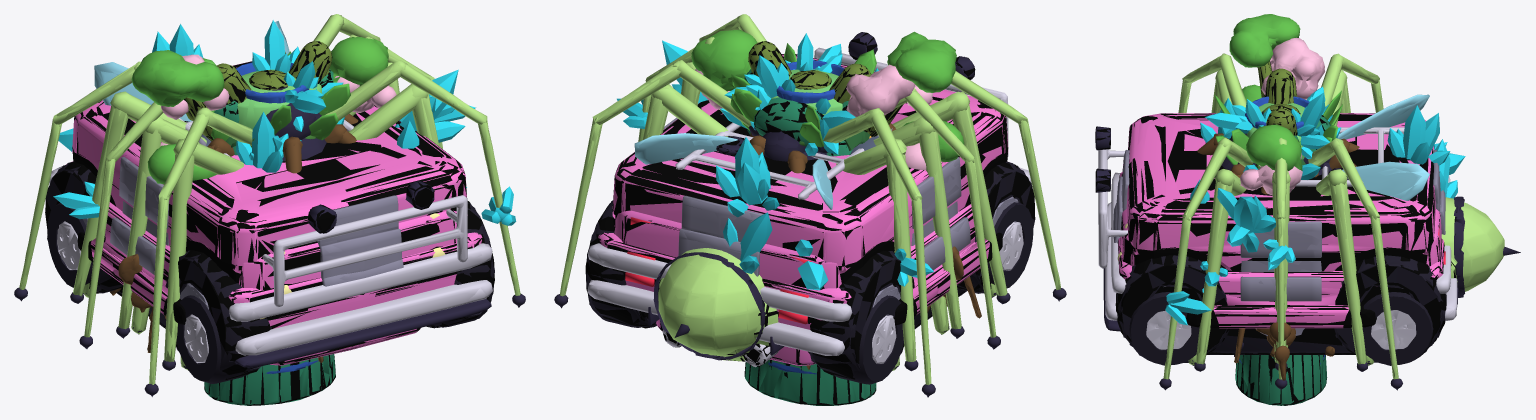
Rendered from chimera.glb.
3 views of the same model, side by side, from view 1: azimuth 30°, elevation 25°; view 2: azimuth 150°, elevation 25°; view 3: azimuth 270°, elevation 25° (orthographic). The views are drawn at different scales.
Parts seen in each view (by area): view 1: ch_legs_car_1_hull_ink, ch_legs_car_1_hull, ch_legs_car_1_hull_far, ch_legs_car_0_bumpers, ch_legs_car_1_bumpers, ch_legs_car_1_bullbar, ch_legs_car_2_hull, ch_legs_car_1_mut_crystal_18_shards, ch_legs_car_2_splitter, ch_legs_car_2_hull_ink, ch_body_sapling_0_leaves2, ch_legs_car_1_bullbar_far (+84 smaller); view 2: ch_legs_car_1_hull_ink, ch_legs_car_1_hull, ch_body_mite_2_body, ch_legs_car_1_hull_far, ch_body_mite_2_body_twin, ch_legs_car_0_hull, ch_legs_car_1_bumpers, ch_legs_car_0_bumpers, ch_legs_car_1_wheelLB_tire_ink, ch_legs_car_2_hull_ink, ch_legs_car_2_hull, ch_body_car_1_mut_crystal_18_shards (+91 smaller); view 3: ch_legs_car_1_hull_ink, ch_legs_car_1_hull, ch_legs_car_1_hull_far, ch_legs_car_1_mut_crystal_18_shards, ch_legs_car_2_hull, ch_legs_car_2_hull_ink, ch_legs_car_1_wheelRF_tire_ink, ch_body_mite_2_body, ch_legs_car_2_wheelRB_tire_far, ch_body_sapling_0_leaves2, ch_legs_mite_0_legR0_bone1, ch_legs_car_1_wheelRB_tire (+72 smaller).
Part boxes in pixels (<box>): ch_legs_car_1_hull_ink: <box>72,61,466,283</box>; ch_legs_car_1_hull: <box>72,63,466,270</box>; ch_legs_car_1_hull_far: <box>72,63,467,273</box>; ch_legs_car_0_bumpers: <box>235,280,492,355</box>; ch_legs_car_1_bumpers: <box>49,167,492,321</box>; ch_legs_car_1_bullbar: <box>262,195,467,307</box>; ch_legs_car_2_hull: <box>66,161,481,328</box>; ch_legs_car_1_mut_crystal_18_shards: <box>169,24,465,172</box>; ch_legs_car_2_splitter: <box>235,299,490,367</box>; ch_legs_car_2_hull_ink: <box>77,207,482,329</box>; ch_body_sapling_0_leaves2: <box>131,50,224,106</box>; ch_legs_car_1_bullbar_far: <box>263,195,467,307</box>; ch_legs_car_1_hull_ink: <box>612,54,1008,283</box>; ch_legs_car_1_hull: <box>612,54,1008,270</box>; ch_body_mite_2_body: <box>658,248,763,354</box>; ch_legs_car_1_hull_far: <box>612,54,1008,273</box>; ch_body_mite_2_body_twin: <box>658,248,764,354</box>; ch_legs_car_0_hull: <box>614,210,841,290</box>; ch_legs_car_1_bumpers: <box>588,167,1031,321</box>; ch_legs_car_0_bumpers: <box>587,280,844,355</box>; ch_legs_car_1_wheelLB_tire_ink: <box>810,250,914,379</box>; ch_legs_car_2_hull_ink: <box>598,161,1015,324</box>; ch_legs_car_2_hull: <box>599,207,989,329</box>; ch_body_car_1_mut_crystal_18_shards: <box>727,159,828,290</box>; ch_legs_car_1_hull_ink: <box>1127,113,1434,271</box>; ch_legs_car_1_hull: <box>1126,113,1435,271</box>; ch_legs_car_1_hull_far: <box>1128,113,1434,270</box>; ch_legs_car_1_mut_crystal_18_shards: <box>1200,98,1430,246</box>; ch_legs_car_2_hull: <box>1118,172,1443,327</box>; ch_legs_car_2_hull_ink: <box>1117,173,1444,327</box>; ch_legs_car_1_wheelRF_tire_ink: <box>1115,255,1229,354</box>; ch_body_mite_2_body: <box>1441,197,1504,291</box>; ch_legs_car_2_wheelRB_tire_far: <box>1362,292,1433,365</box>; ch_body_sapling_0_leaves2: <box>1229,14,1300,67</box>; ch_legs_mite_0_legR0_bone1: <box>1329,170,1366,364</box>; ch_legs_car_1_wheelRB_tire: <box>1334,255,1446,361</box>.
Bounding box in the file's own units: 1.27 × 1.11 × 1.36.
